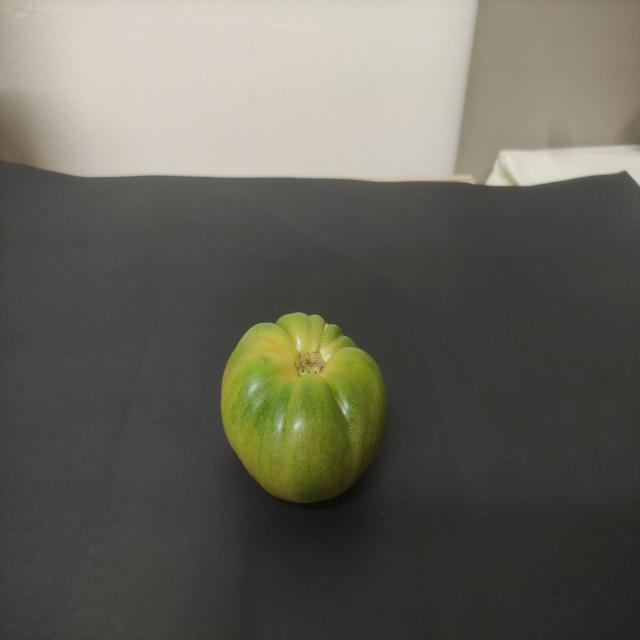unripe tomato: (201, 290, 401, 510)
